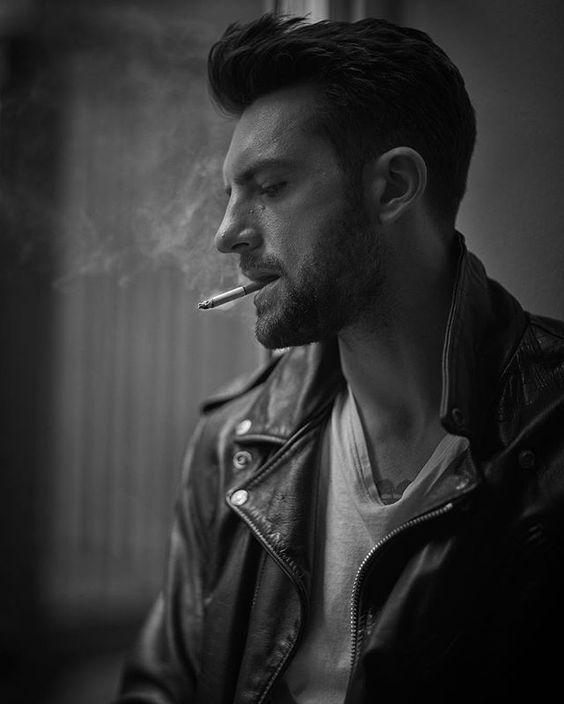cigarette: (198, 276, 279, 310)
